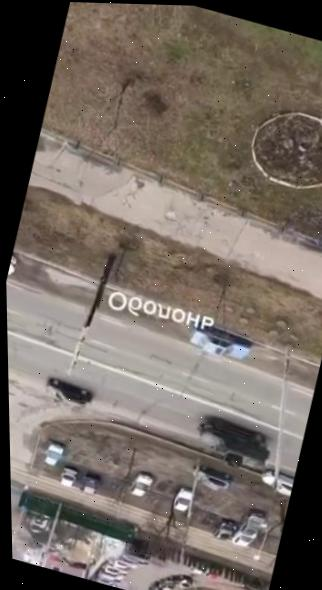armored_car: (189, 412, 275, 477)
car: (185, 320, 252, 363), (41, 374, 94, 411), (190, 462, 234, 494), (257, 467, 295, 496), (235, 506, 267, 539), (126, 467, 155, 500), (210, 514, 238, 543), (39, 437, 66, 467), (171, 483, 194, 513), (55, 463, 80, 489), (77, 472, 101, 497)
